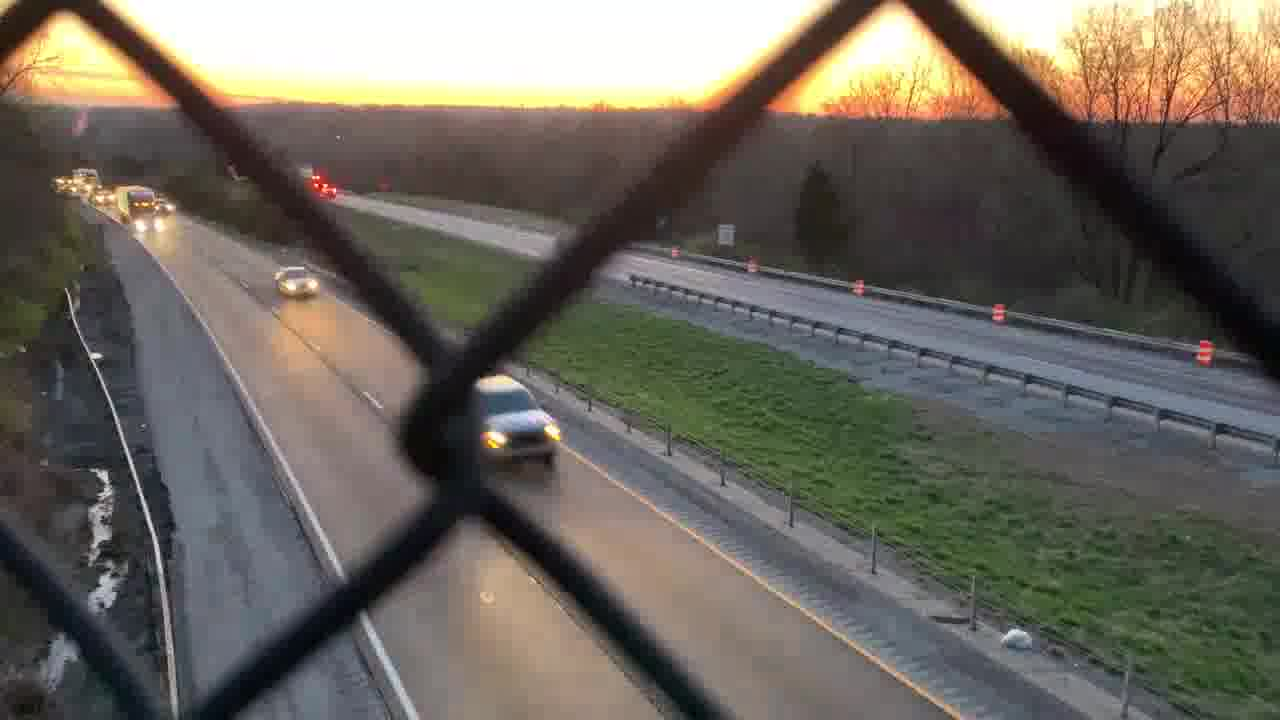heavyTruck: (112, 186, 167, 233)
smallCar: (270, 265, 325, 298)
